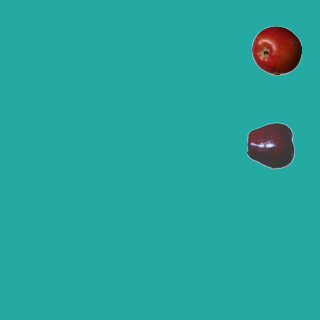Apple Braeburn: (251, 25, 301, 75)
Apple Red Delicious: (246, 120, 296, 170)
